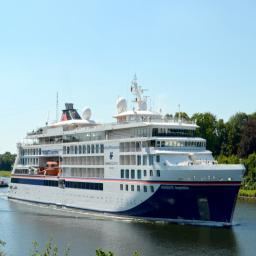cruises: (6, 73, 247, 231)
